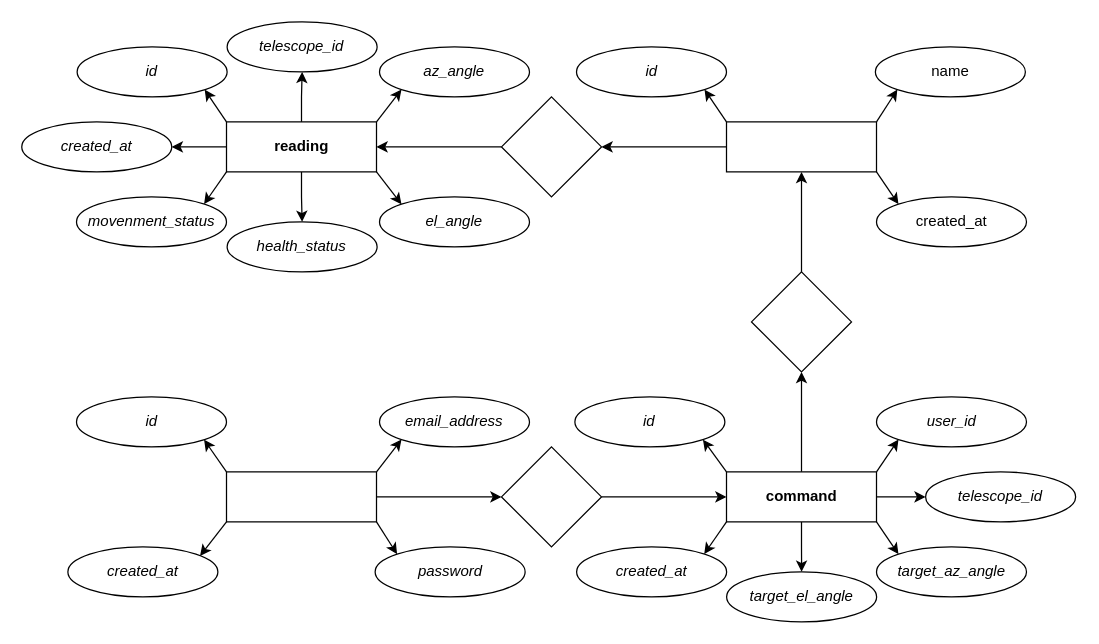
This 1099x644 diagram has some shape labels left out. Here are the shapes that lost their labels. From the top down, the centre of each, then its label:
At (x=551, y=146): "has".
At (x=800, y=146): "telescope".
At (x=801, y=321): "control".
At (x=300, y=496): "user".
At (x=551, y=496): "send".
